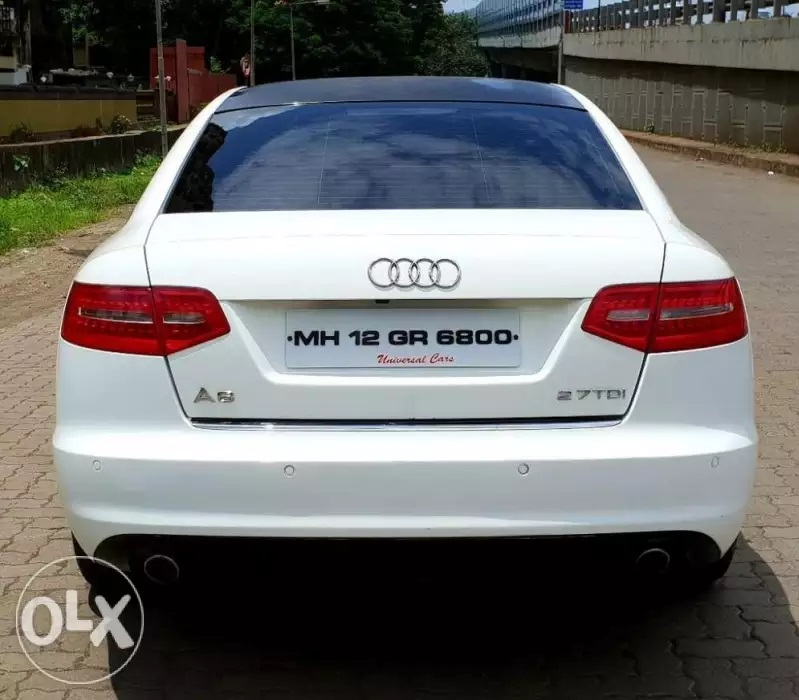licenseplate: (282, 308, 527, 373)
